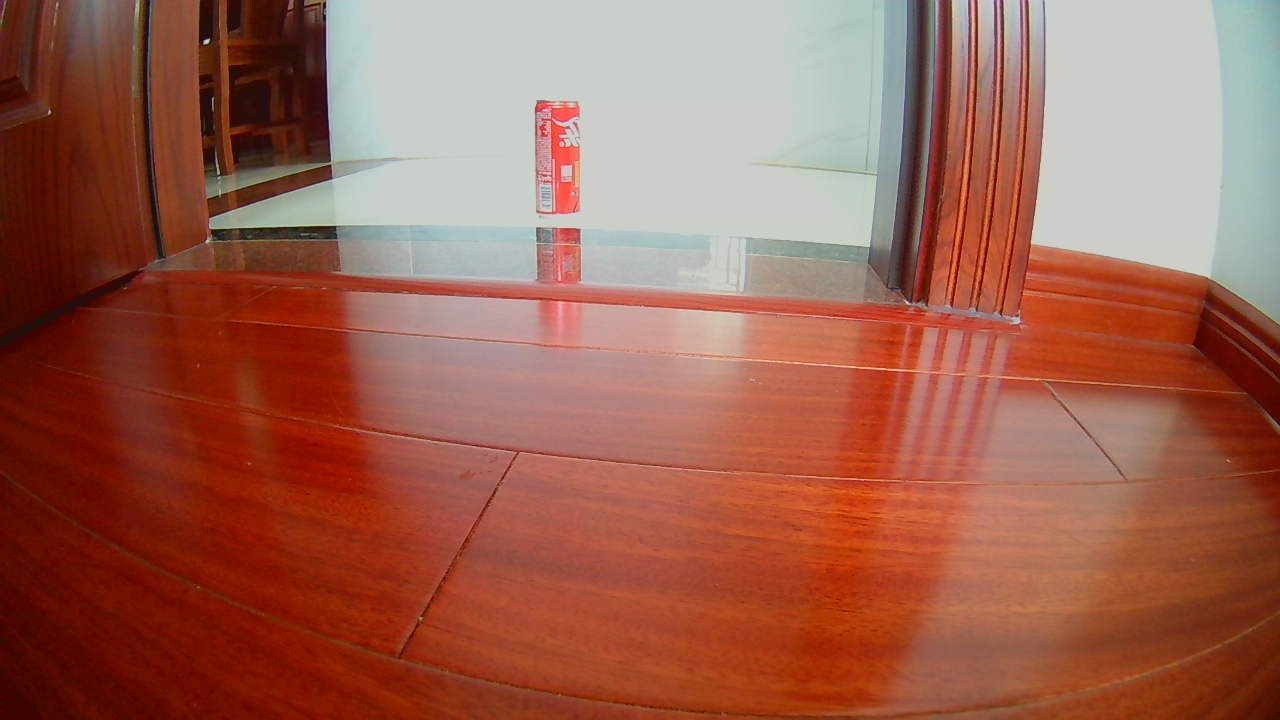cola: (533, 98, 580, 221)
